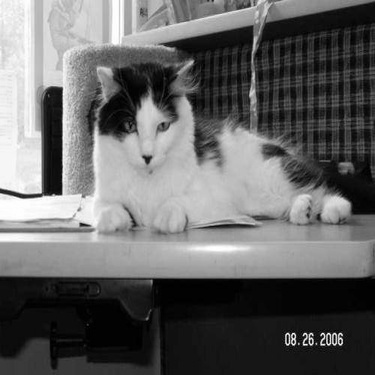cat: (90, 55, 351, 234)
